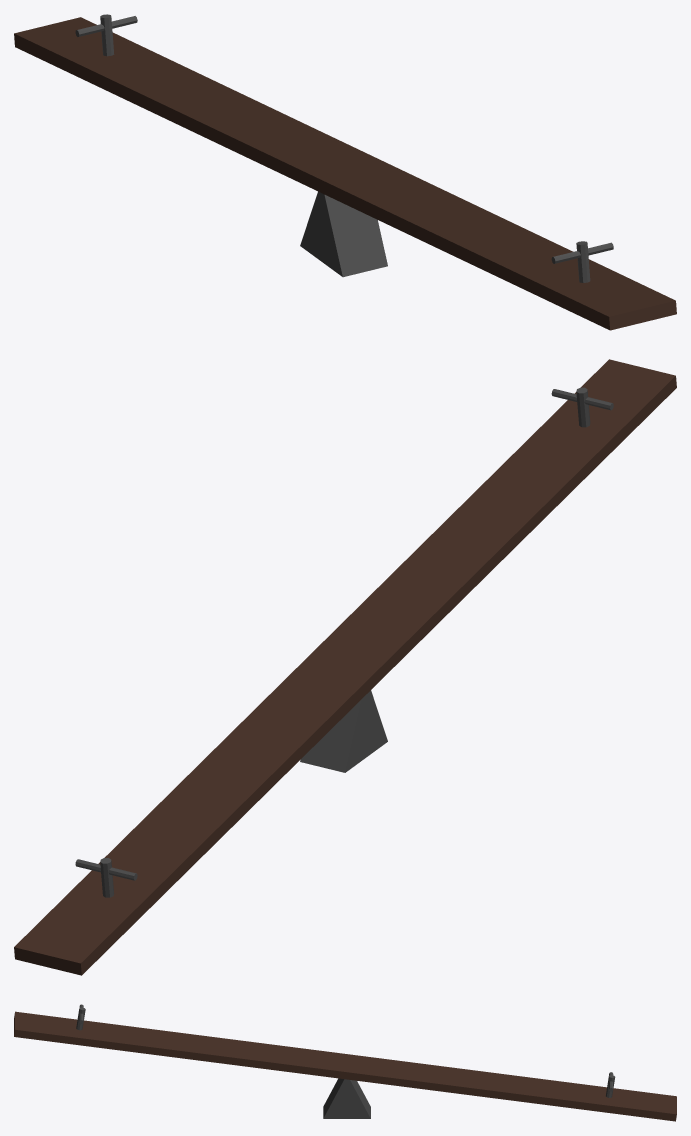
The model's file is Balancin.fbx.
The picture shows the model from 3 angles, top to bottom: view 1: azimuth 30°, elevation 25°; view 2: azimuth 150°, elevation 25°; view 3: azimuth 270°, elevation 25°; orthographic projection. The views are drawn at different scales.
Parts seen in each view (by area): view 1: Balancin, Balancin.001; view 2: Balancin, Balancin.001; view 3: Balancin, Balancin.001.
Boxes of the visible parts, box(x1,y1,x2,y2) form: Balancin: box(14, 17, 676, 330); Balancin.001: box(300, 191, 387, 277); Balancin: box(14, 359, 676, 975); Balancin.001: box(300, 690, 387, 772); Balancin: box(14, 1011, 676, 1121); Balancin.001: box(323, 1078, 370, 1118).
Bounding box in the file's own units: 2.52 × 6.76 × 38.89.
